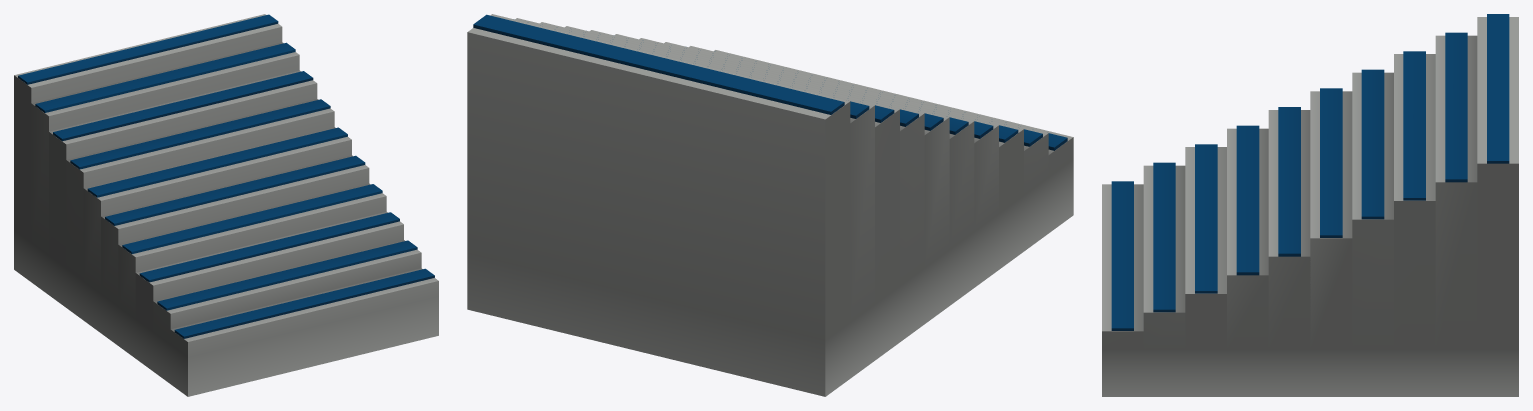
Rendered from grandstand-bay-open.glb.
The picture shows the model from 3 angles, left to right: view 1: azimuth 30°, elevation 25°; view 2: azimuth 150°, elevation 25°; view 3: azimuth 270°, elevation 25°; orthographic projection. The views are drawn at different scales.
Parts seen in each view (by area): view 1: grandstand-bay-open; view 2: grandstand-bay-open; view 3: grandstand-bay-open.
Boxes of the visible parts, <box> form: grandstand-bay-open: <box>14,14,438,396</box>; grandstand-bay-open: <box>467,14,1073,396</box>; grandstand-bay-open: <box>1102,14,1518,396</box>.
Bounding box in the file's own units: 20 × 15 × 24.
